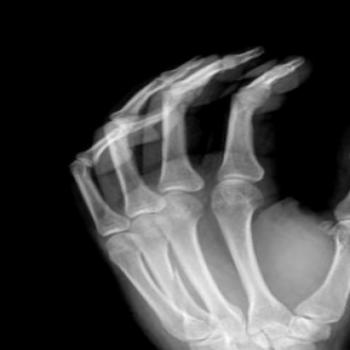Fracture: (162, 261, 185, 297)
